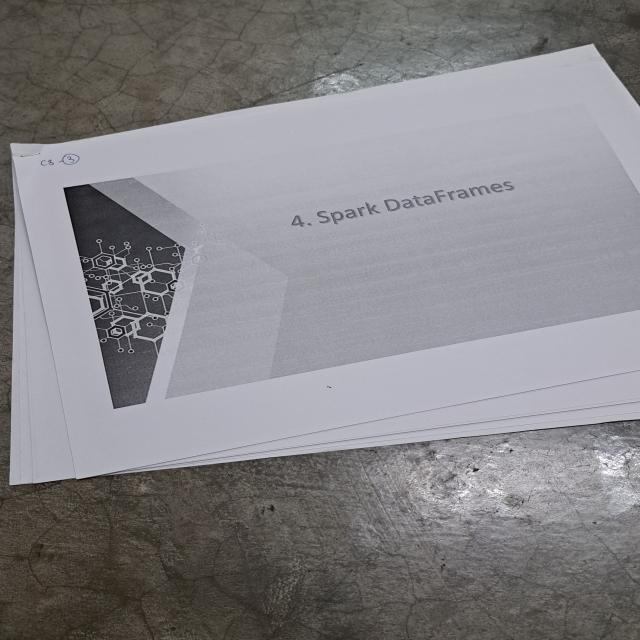paper: (10, 43, 640, 486)
